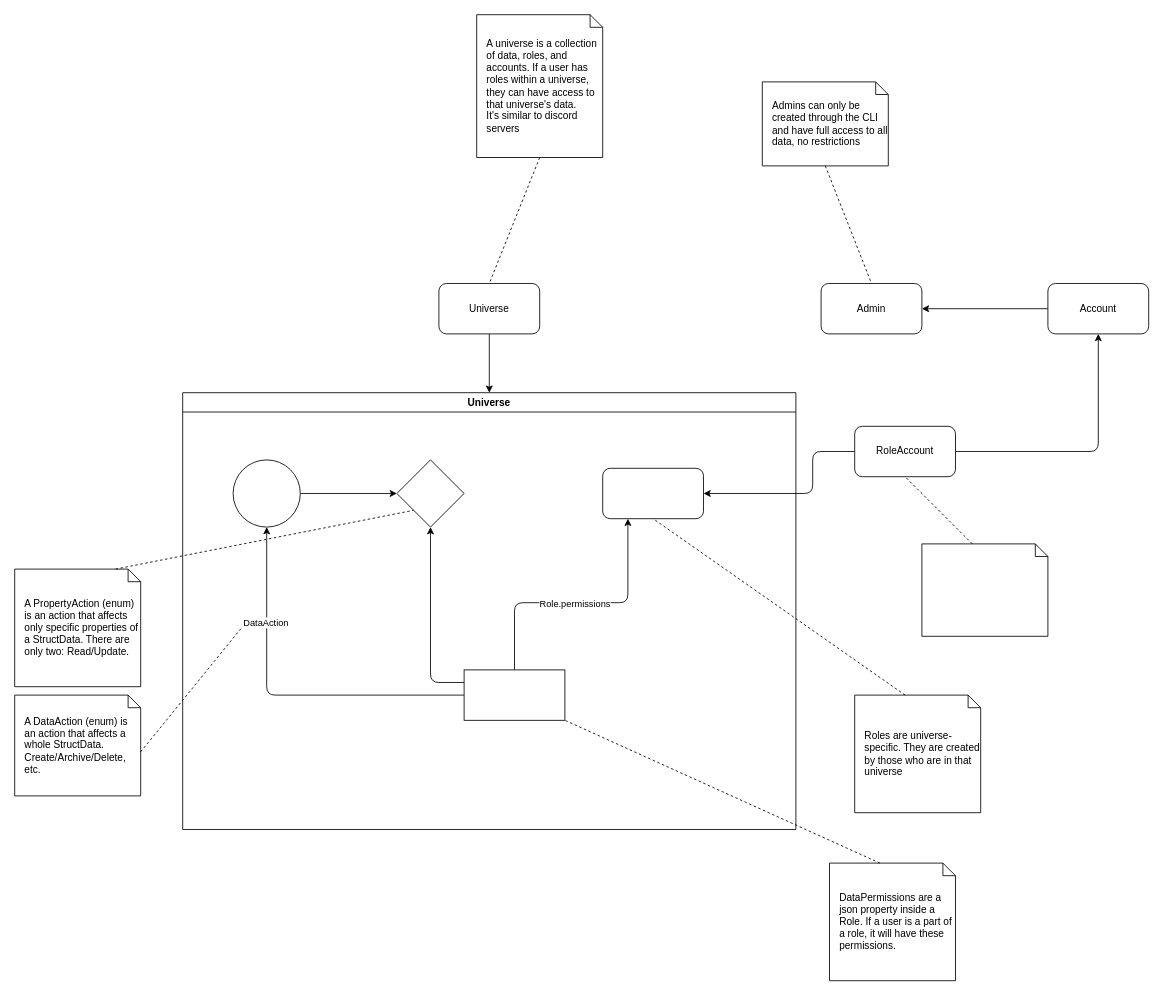
Image size: 1163x995. Some labels were removed from this diagram. The shapes that lost their labels are listed below. From the top down, each one's centre as x and y in pixels, then its label:
At pixel 266 493: "Data".
At pixel 430 493: "Property".
At pixel 653 493: "Role".
At pixel 984 589: "Linking table giving accounts roles within a universe".
At pixel 514 694: "DataPermission".
